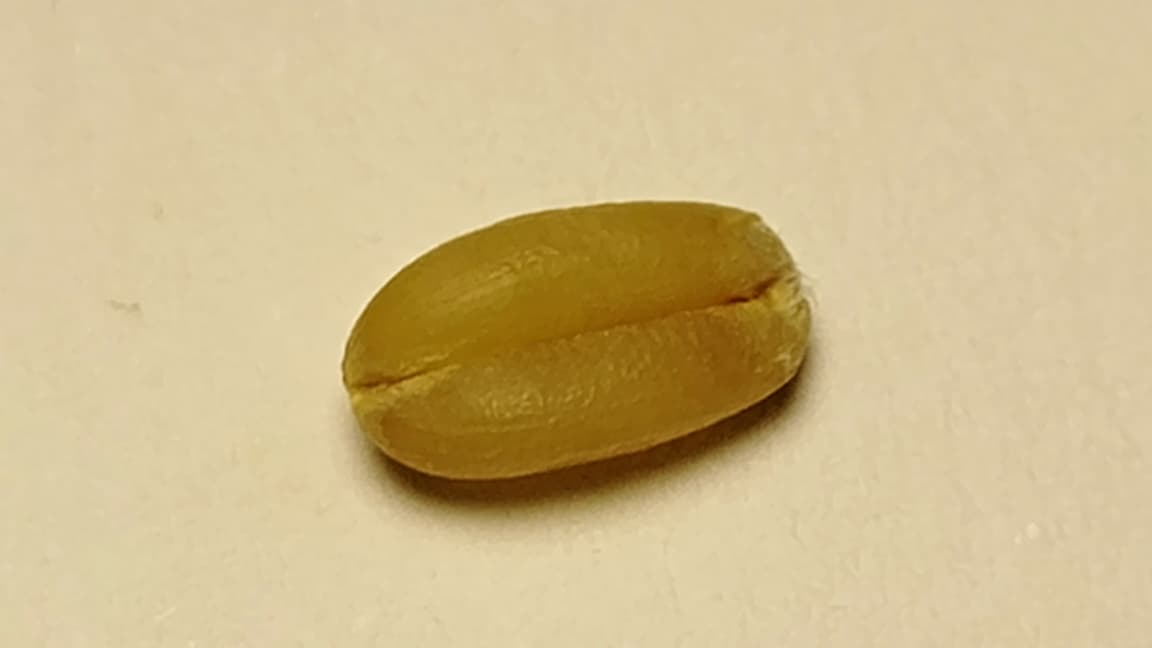healthy: (343, 200, 809, 478)
